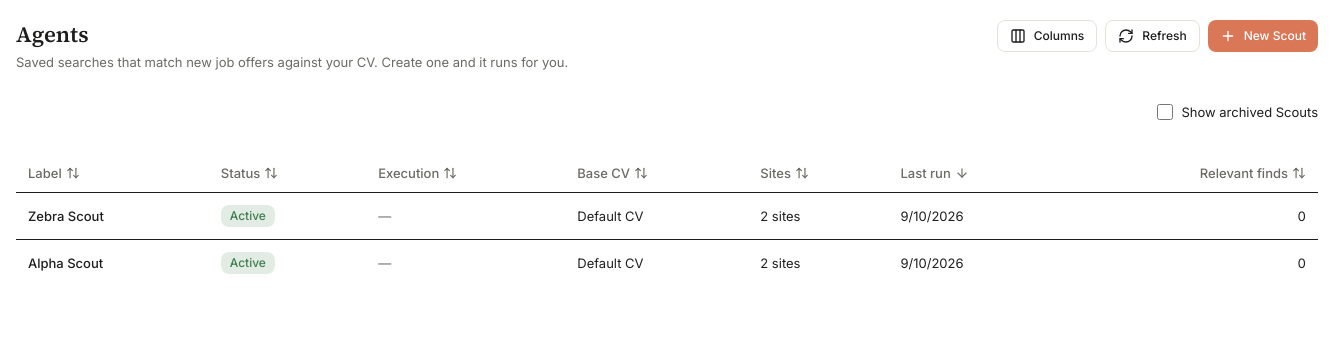
it: ScoutsPage — list › keeps sorting on a column after it's hidden (issue #131)
Expected: the text "Zebra Scout" is shown, [16,193,209,240]
Click the button "Label" at (54, 173), box [28,164,80,182]
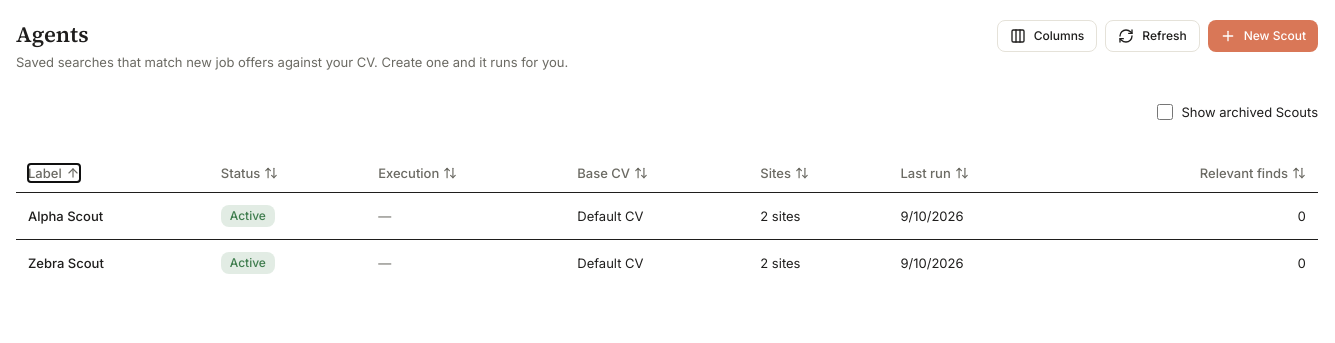
Expected: the row "Alpha Scout Active — Default CV 2 sites 9/10/2026 0" is shown, [16,193,1318,240]
Click the button "Columns" at (1047, 36), box [997,20,1097,52]
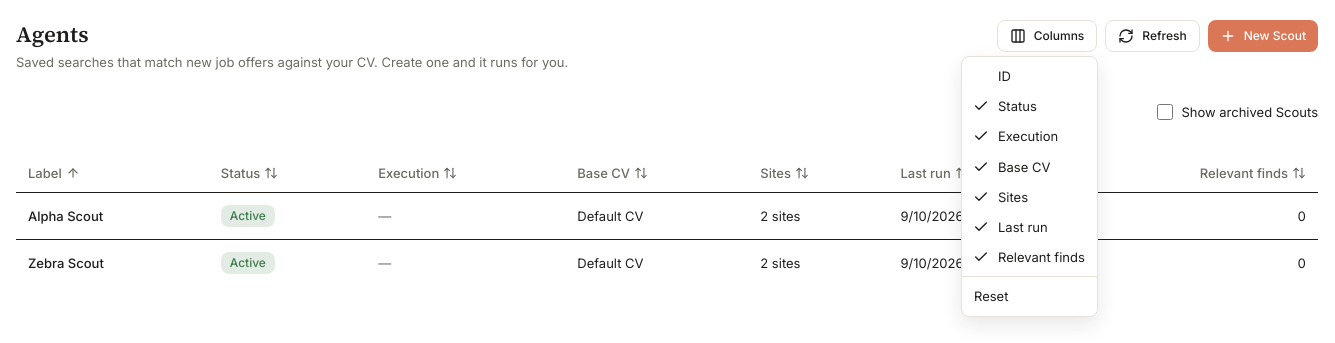
Click the menu item "Status" at (1005, 106), box [973,98,1037,114]
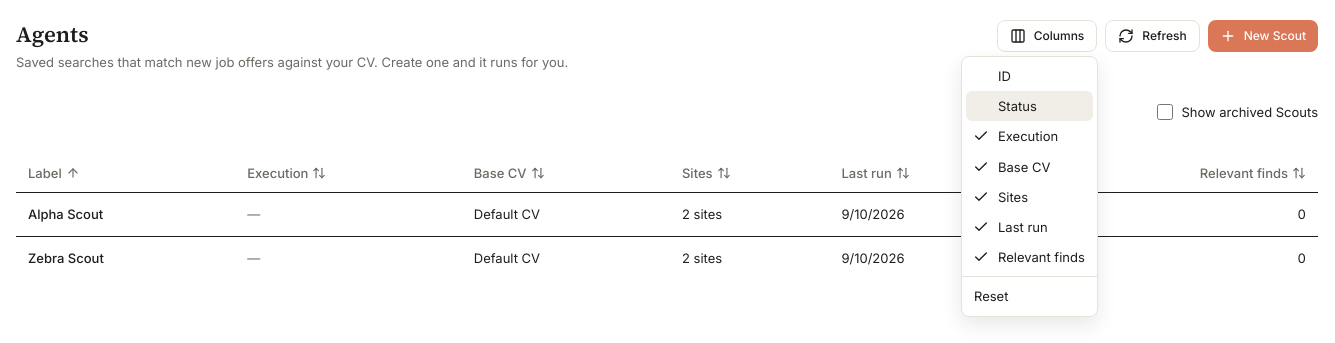
Press Escape
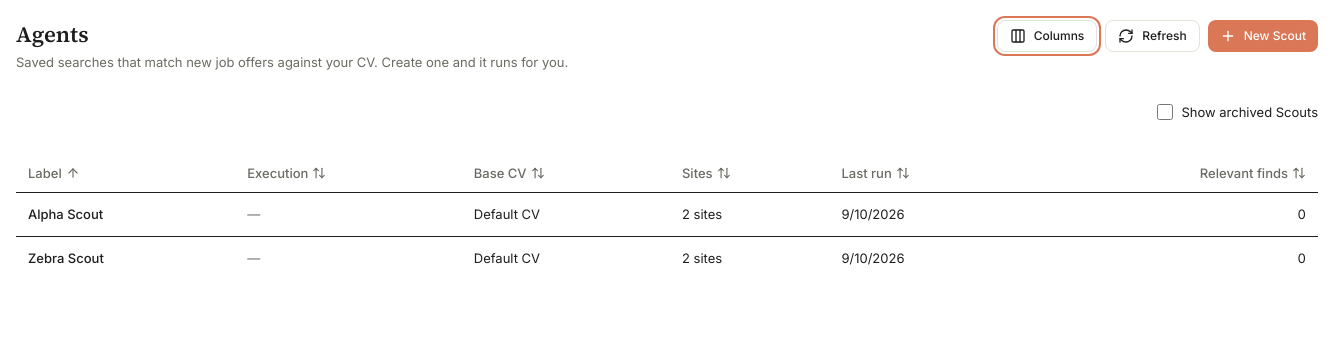
Expected: the row "Alpha Scout — Default CV 2 sites 9/10/2026 0" is shown, [16,193,1318,236]
Now the menu item "Status" is gone
